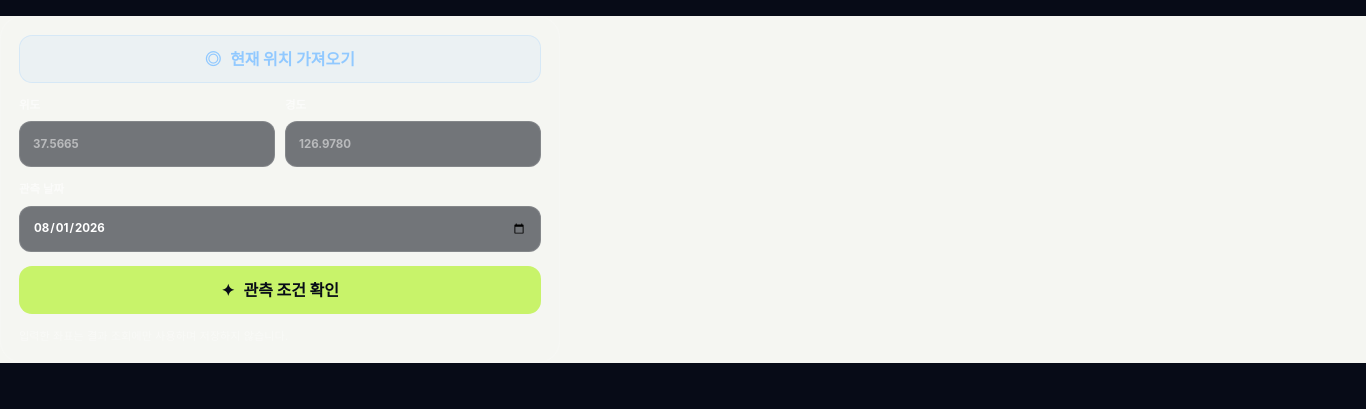
Test: ObservationSearchForm › explains when geolocation is unavailable
Step 1. Click the button "◎ 현재 위치 가져오기" → (280, 59), box [19,35,541,83]
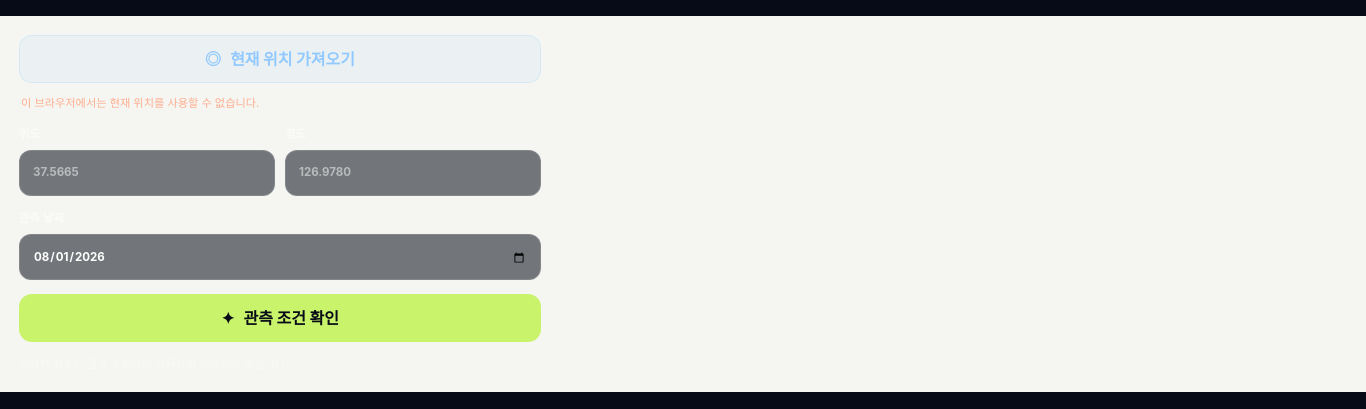
Expected: the text "이 브라우저에서는 현재 위치를 사용할 수 없습니다." is shown, [21,96,259,110]
